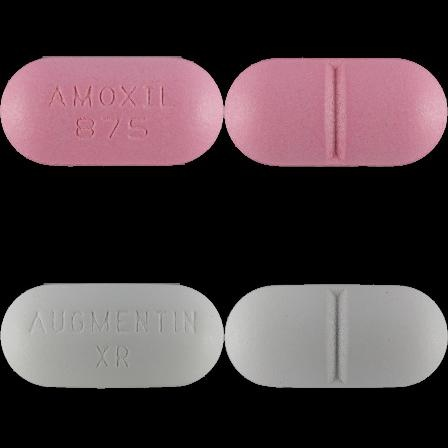43598-219: (0, 0, 224, 224)
